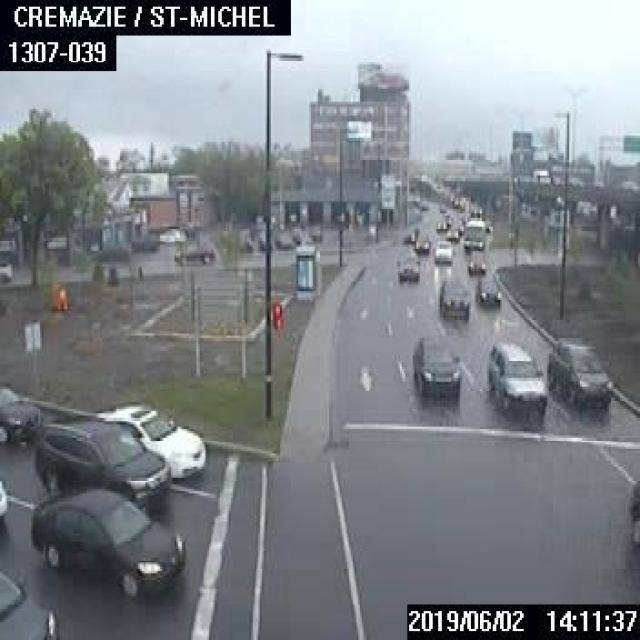bus: (461, 216, 484, 251)
vehicle: (29, 486, 184, 598), (33, 417, 169, 510), (96, 401, 204, 479), (545, 335, 610, 406), (485, 340, 546, 410), (0, 564, 56, 637), (409, 329, 460, 393), (0, 384, 42, 444), (437, 276, 469, 318), (173, 242, 214, 265), (473, 274, 500, 306), (394, 253, 420, 282), (627, 476, 638, 542), (93, 241, 127, 260), (129, 232, 158, 250), (431, 238, 452, 262), (465, 249, 485, 274), (157, 226, 185, 243), (0, 476, 9, 520), (414, 230, 429, 252), (402, 224, 418, 242), (0, 259, 13, 281), (444, 224, 458, 240), (435, 218, 445, 231)
